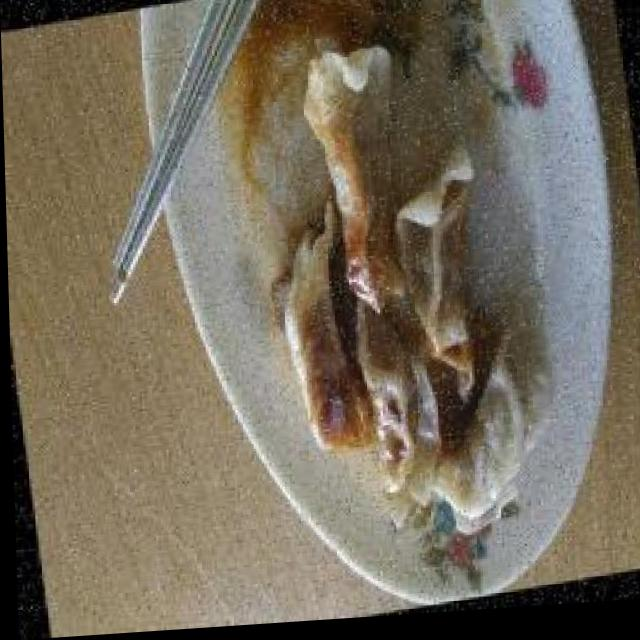fried_dumplings: (244, 24, 572, 570)
